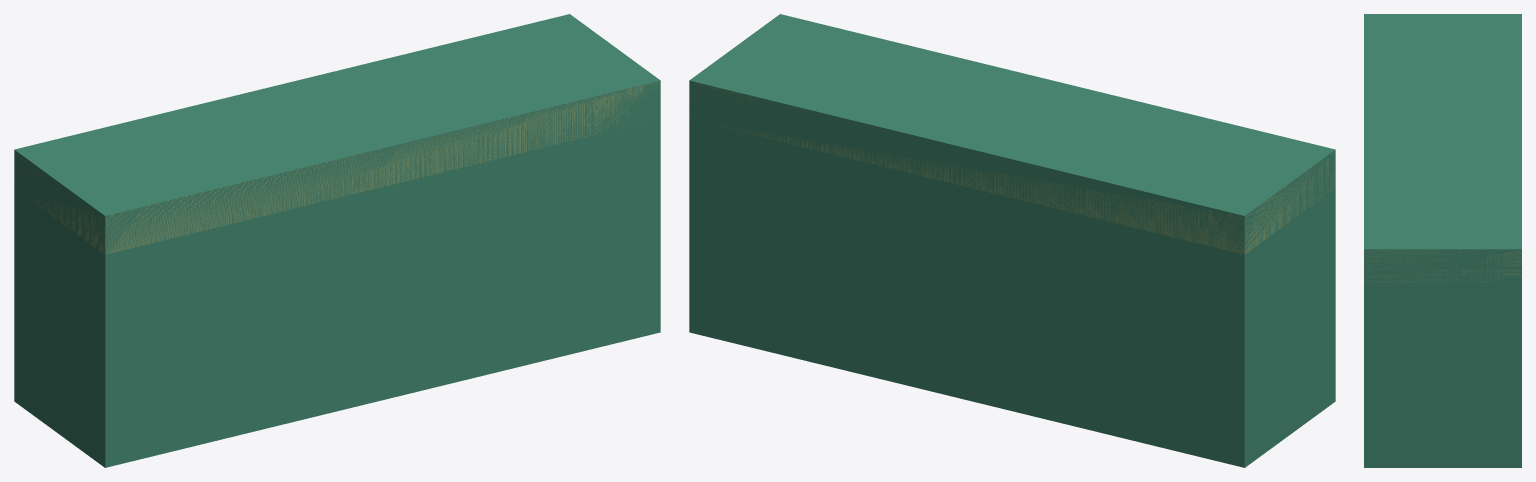
The model's file is hedge.obj.
The picture shows the model from 3 angles, left to right: view 1: azimuth 30°, elevation 25°; view 2: azimuth 150°, elevation 25°; view 3: azimuth 270°, elevation 25°; orthographic projection. The views are drawn at different scales.
Visible parts, largest first — view 1: hedge; view 2: hedge; view 3: hedge.
Part boxes in pixels (x1,y1,x2,y2): hedge: (14,14,660,467); hedge: (689,14,1335,467); hedge: (1364,14,1521,467).
Size of the model in its own units: 3 by 1.3 by 0.85.
